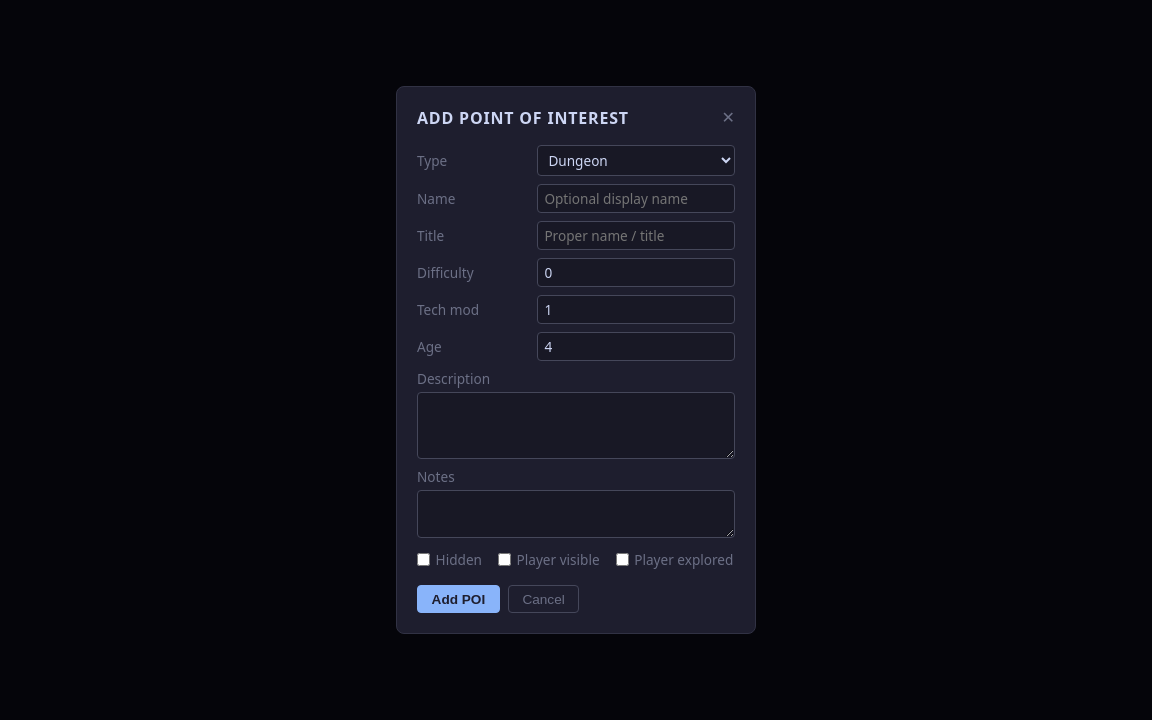
Scenario: AddPOIModal conditional fields › shows Description/Notes but no Difficulty for general
Select "General" in the dropdown at (636, 160), box [537,145,735,176]
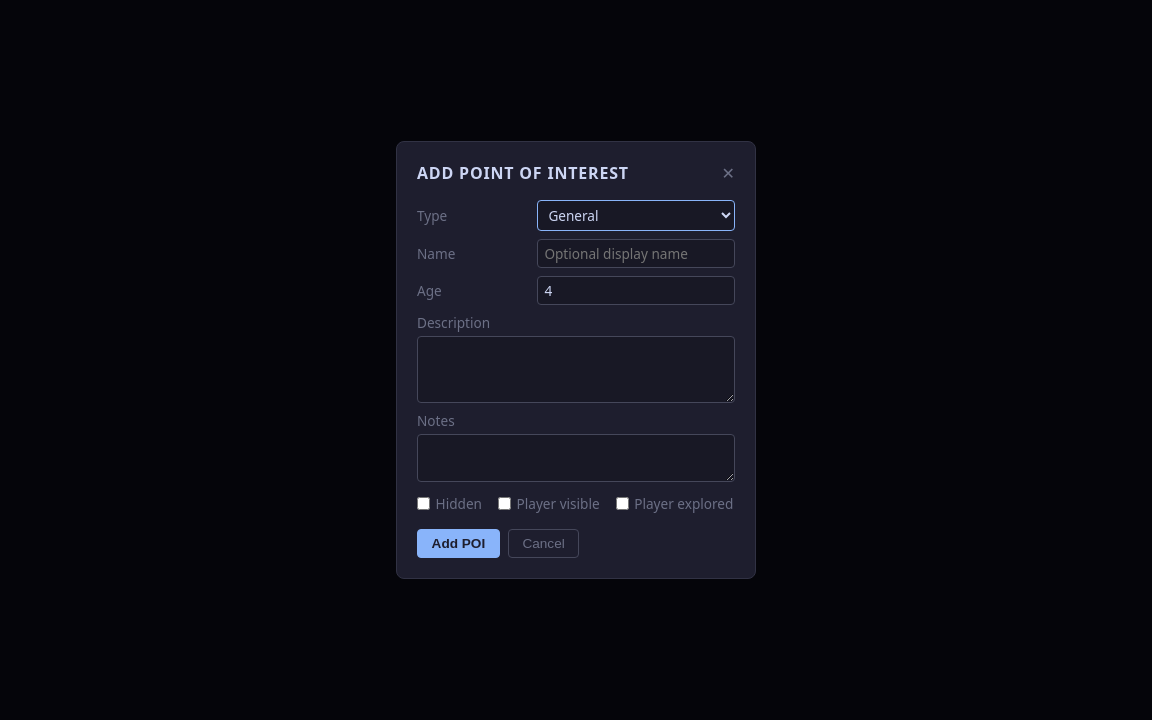
expect the text "Description" is shown: met, box [417,313,490,332]
expect the text "Difficulty" is gone: met
